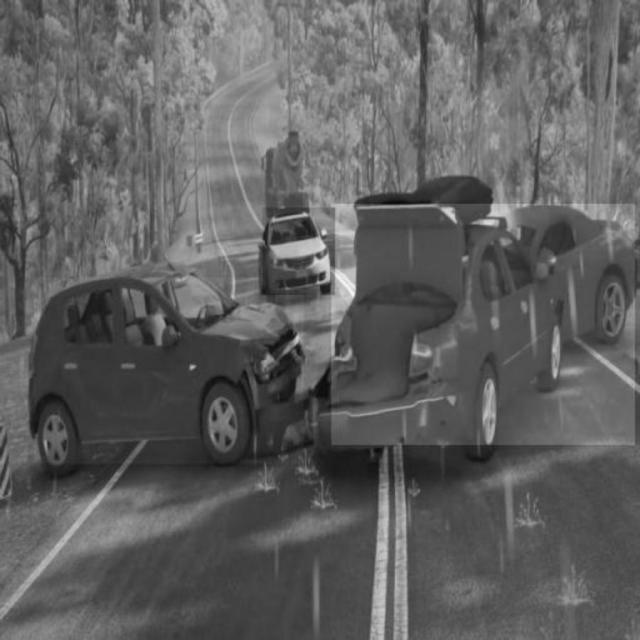accident: (331, 204, 635, 445)
vehicle: (34, 278, 304, 464), (263, 207, 335, 295)
